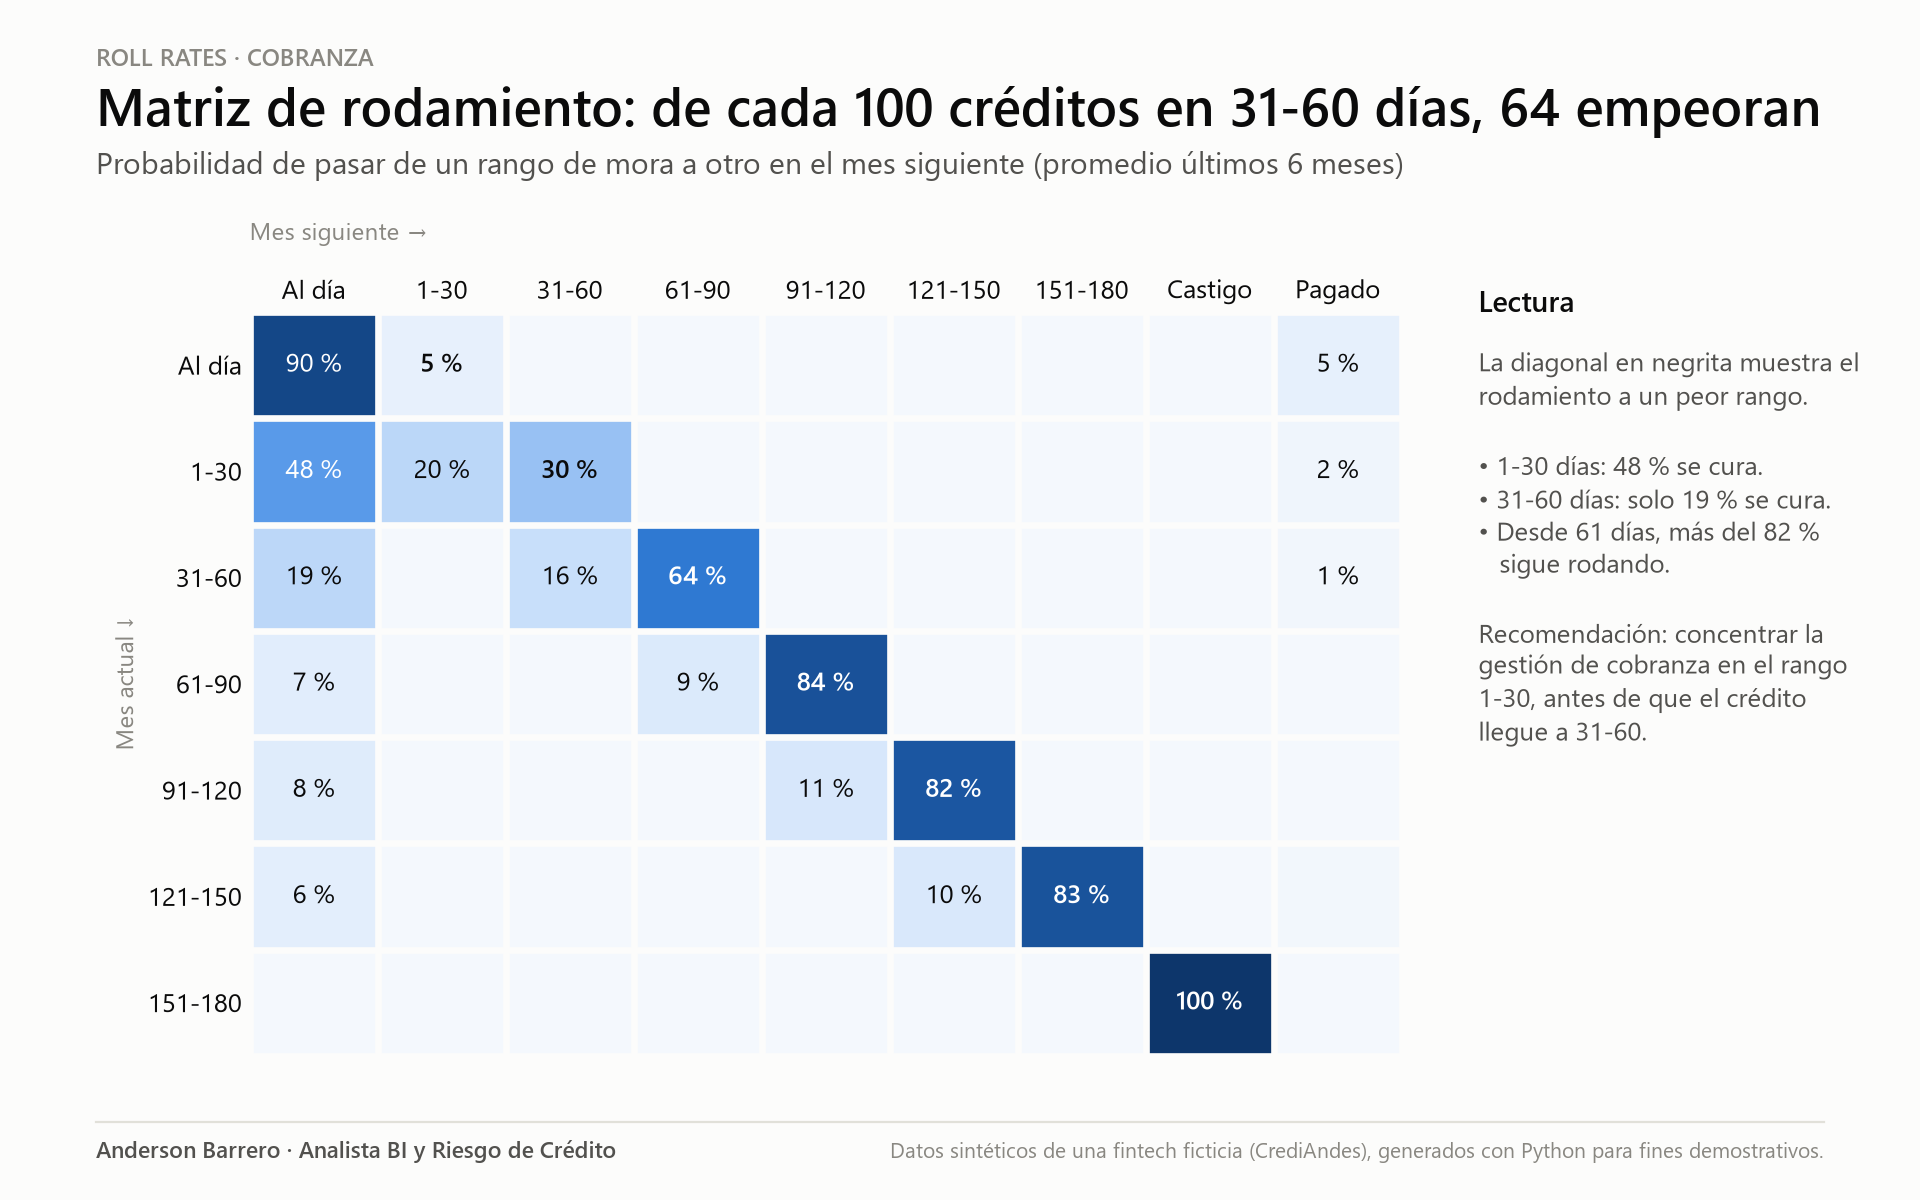

What the dashboard file says about the page in this screenshot:
{"tool":"powerbi","page":{"name":"Roll rates","canvas":[1280,720],"ordinal":2},"visuals":[{"type":"textbox","box":[20,8,1240,64],"z":0},{"type":"pivotTable","title":"Mes actual → mes siguiente","fields":{"Columns":["roll_rates.Mes siguiente"],"Rows":["roll_rates.Mes actual"],"Values":["Medidas.Probabilidad de rodamiento"]},"box":[20,80,1240,620],"z":1000}]}

Visuals, with their boxes on the page's 1280x720 design canvas (x1, y1, x2, y2). These are canvas units, not pixel positions in the 1920x1200 screenshot, which may show the page scaled, cropped or inside an application window:
textbox: 20, 8, 1260, 72
"Mes actual → mes siguiente" pivotTable: 20, 80, 1260, 700
